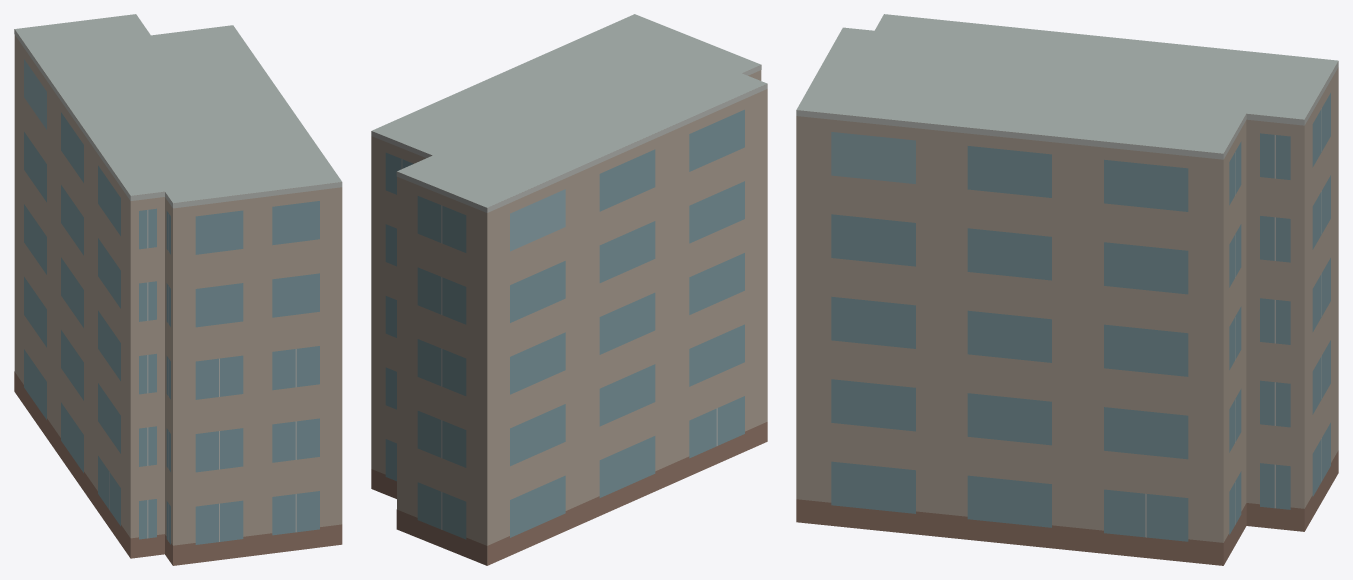
File: survey-upis-33015107.glb
The picture shows the model from 3 angles, left to right: view 1: azimuth 30°, elevation 25°; view 2: azimuth 150°, elevation 25°; view 3: azimuth 270°, elevation 25°; orthographic projection. The views are drawn at different scales.
Visible parts, largest first — view 1: survey-upis-33015107.tmp; view 2: survey-upis-33015107.tmp; view 3: survey-upis-33015107.tmp.
Part boxes in pixels (x1,y1,x2,y2): survey-upis-33015107.tmp: (14,14,342,565); survey-upis-33015107.tmp: (371,14,767,565); survey-upis-33015107.tmp: (796,14,1338,565).
Size of the model in its own units: 12.22 by 16.8 by 20.04.
